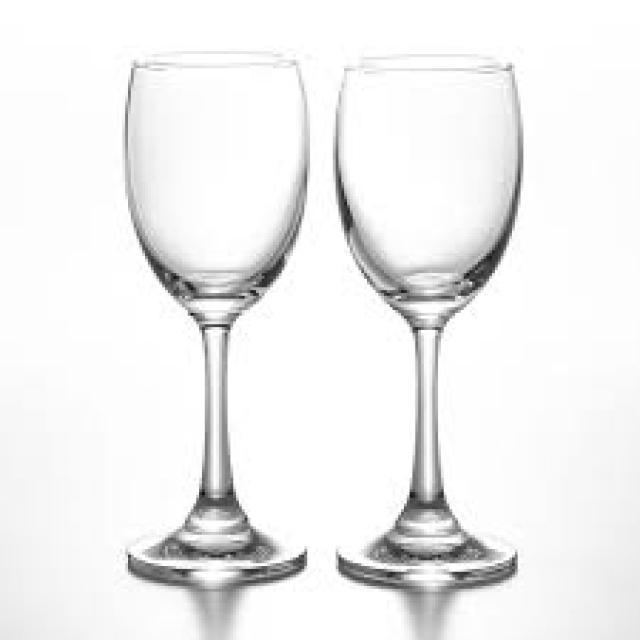Glass: (84, 32, 314, 590), (321, 40, 523, 601)
